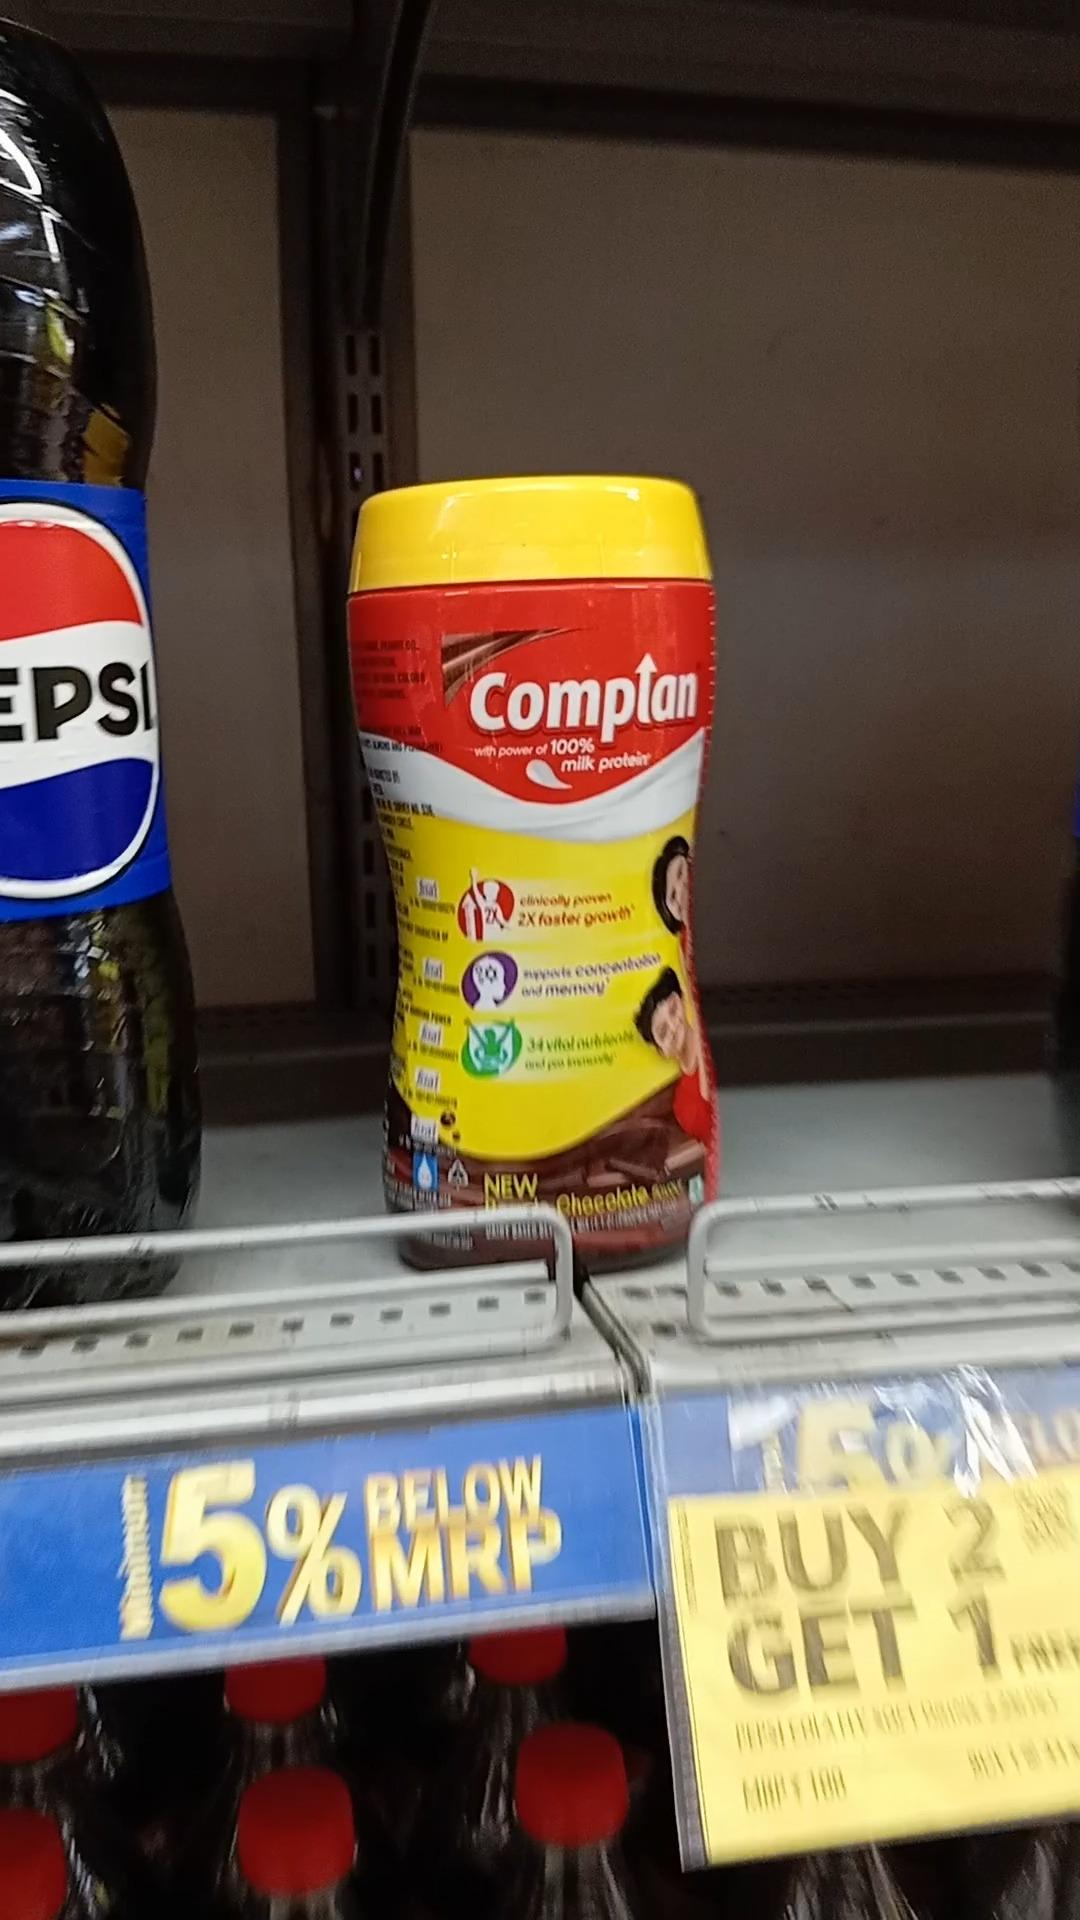COMPLAN_CHOCOLATE_500_GMS_JAR: (353, 460, 725, 1254)
